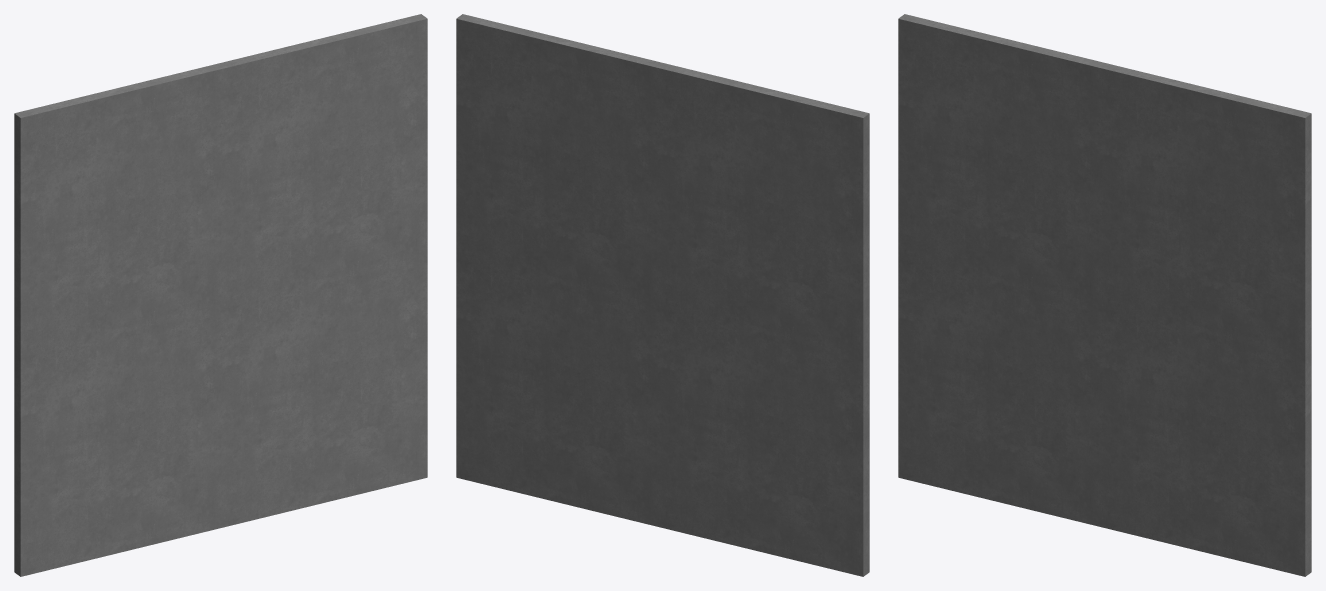
Rendered from Wall_Plain.FBX.
3 renders of one model, left to right at view 1: azimuth 30°, elevation 25°; view 2: azimuth 150°, elevation 25°; view 3: azimuth 330°, elevation 25°, orthographic.
Parts seen in each view (by area): view 1: Plane003; view 2: Plane003; view 3: Plane003.
Boxes of the visible parts, x1,y1,x2,y2 form: Plane003: (14,14,427,576); Plane003: (456,14,869,576); Plane003: (898,14,1311,576).
Bounding box in the file's own units: 79.99 × 86.18 × 2.2.
